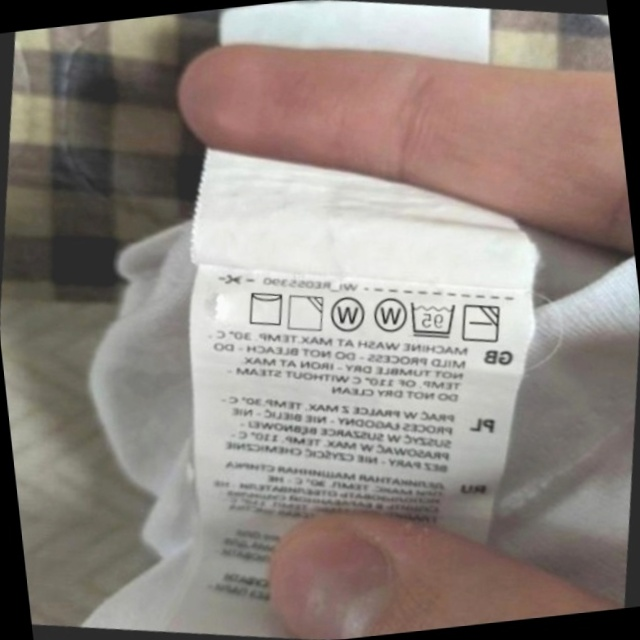95C: (403, 293, 462, 345)
dry_flat_in_shade: (456, 296, 507, 349)
line_dry: (240, 283, 290, 333)
shade_dry: (281, 288, 330, 338)
wet_clean: (324, 290, 371, 340), (366, 289, 412, 339)
